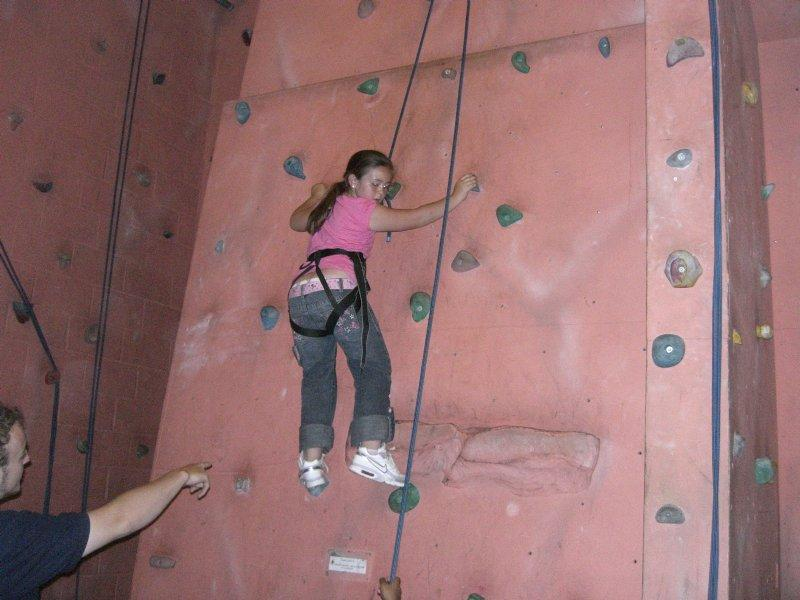person: (285, 151, 481, 493)
